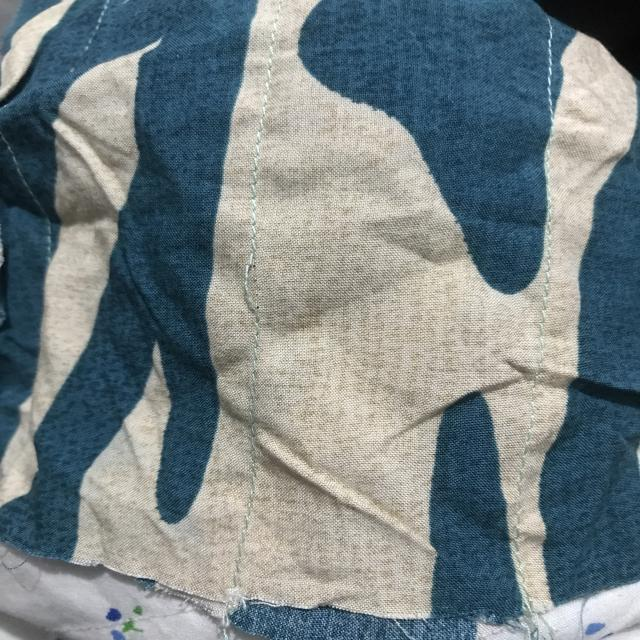good: (237, 160, 275, 224)
skip: (229, 250, 287, 332)
